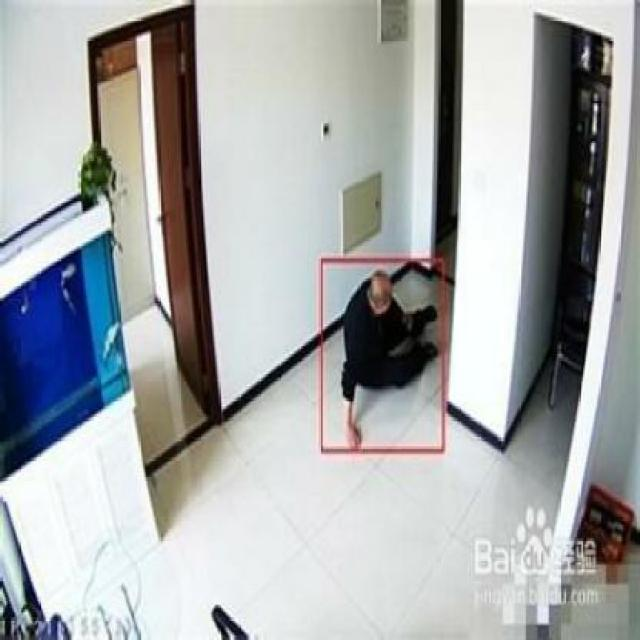fall: (331, 258, 444, 437)
